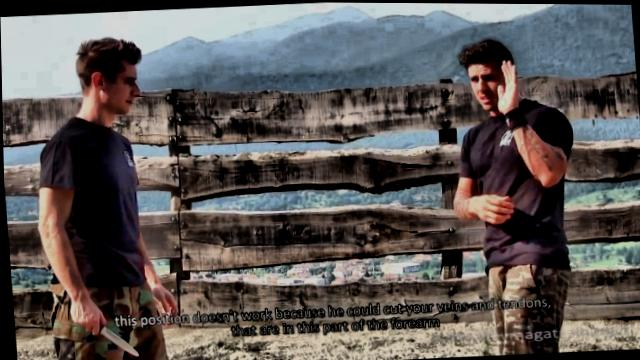knife: (66, 303, 140, 360)
